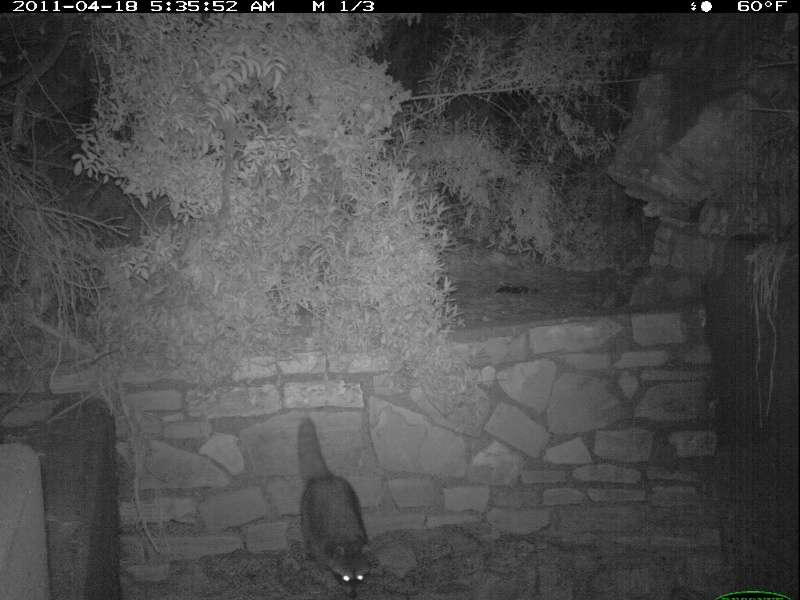raccoon: (293, 416, 375, 589)
